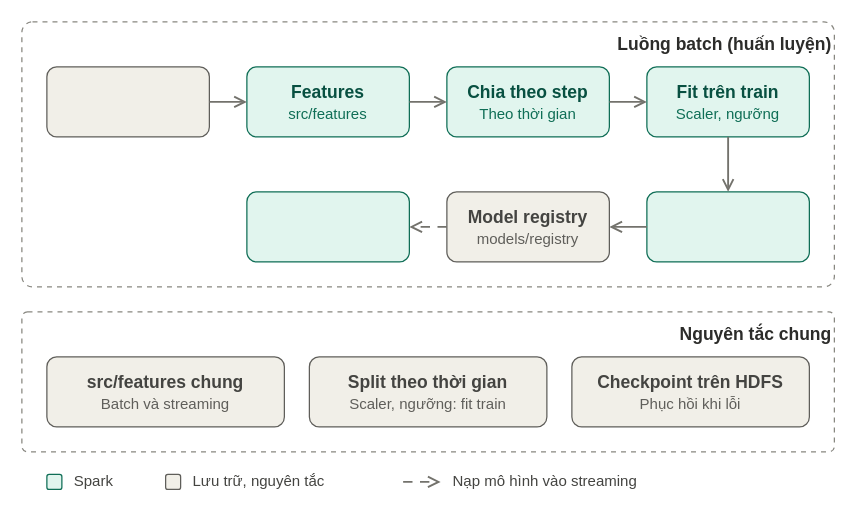
The diagram is 856 pixels wide and 516 high, and some of its shapes have lost their labels. Each missing label, with the centre of its shape:
"HDFS raw Raw, Parquet" goes at [127,101].
"Huấn luyện LR, RF, XGB, AE" goes at [727,226].
"Spark Streaming Nạp mô hình" goes at [327,226].
